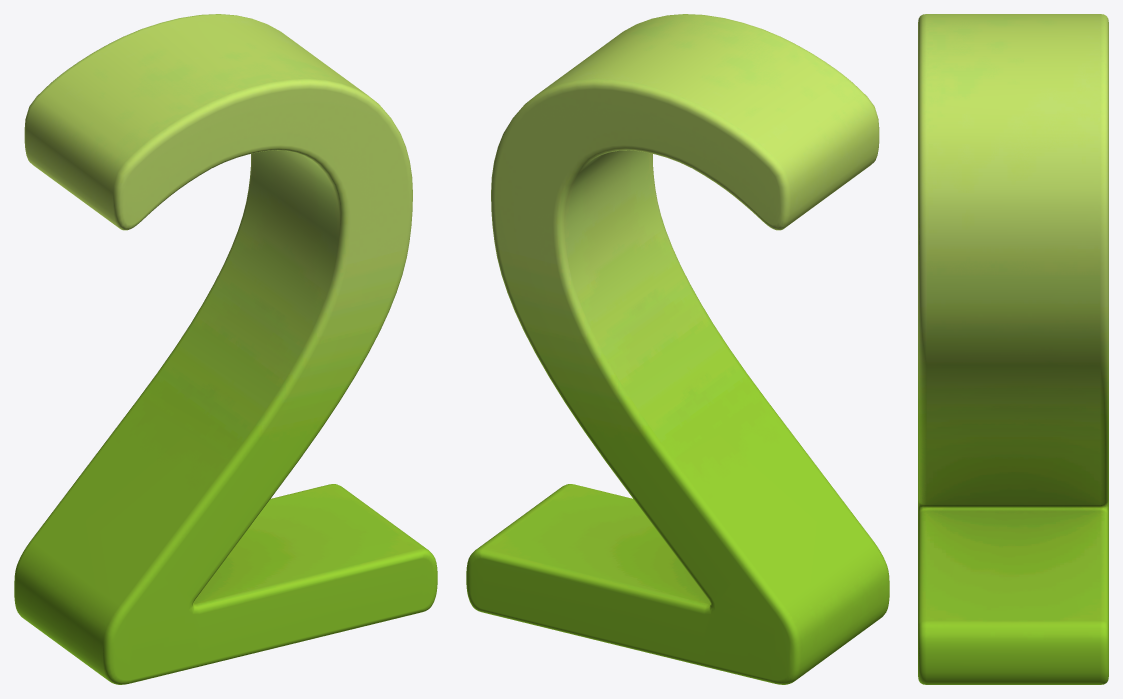
The picture shows the model from 3 angles, left to right: view 1: azimuth 30°, elevation 25°; view 2: azimuth 150°, elevation 25°; view 3: azimuth 270°, elevation 25°; orthographic projection.
Visible parts, largest first — view 1: node_id5; view 2: node_id5; view 3: node_id5.
Boxes of the visible parts, x1,y1,x2,y2 form: node_id5: (14, 14, 437, 684); node_id5: (466, 14, 889, 684); node_id5: (918, 14, 1108, 684).
Bounding box in the file's own units: 0.3161 × 0.512 × 0.1566.
1 material, 1 textured.
